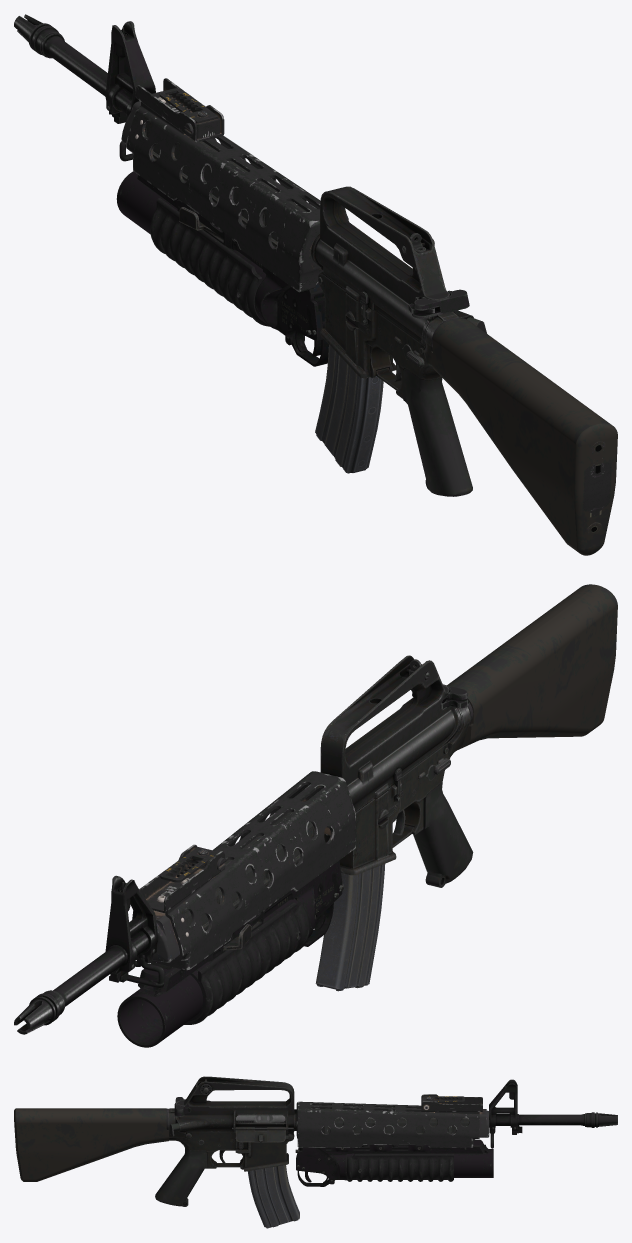
The picture shows the model from 3 angles, top to bottom: view 1: azimuth 30°, elevation 25°; view 2: azimuth 150°, elevation 25°; view 3: azimuth 270°, elevation 25°; orthographic projection. The views are drawn at different scales.
Visible parts, largest first — view 1: node_id19 (×10); view 2: node_id19 (×9); view 3: node_id19 (×10).
Part boxes in pixels (x1,y1,x2,y2): node_id19 (×10): [14, 14, 617, 555]; node_id19 (×9): [14, 584, 617, 1047]; node_id19 (×10): [14, 1076, 617, 1228].
Bounding box in the file's own units: 0.1368 × 0.512 × 1.91.
14 materials, 14 textured.
